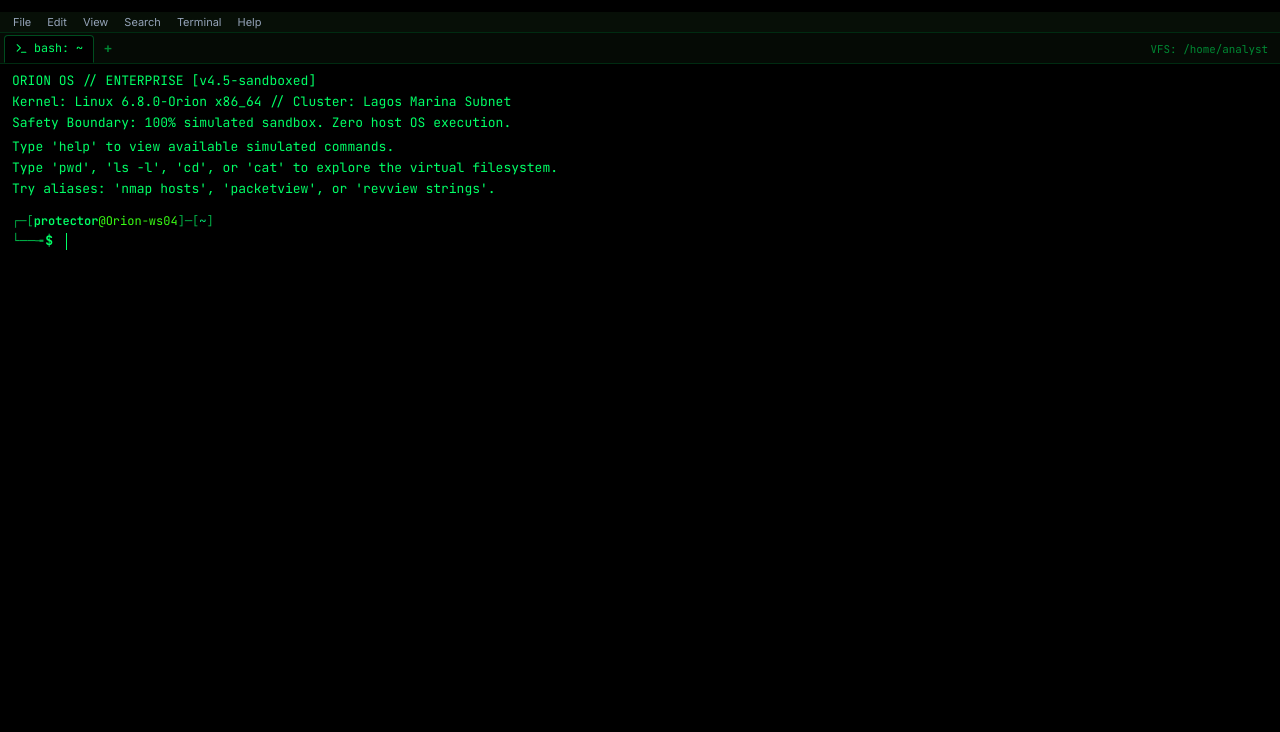
Test case: TerminalApp Component › displays workstation status when running status command
Type "status" into the field with test id "terminal-command-input" at (667, 241), box x1=66 y1=231 x2=1268 y2=252
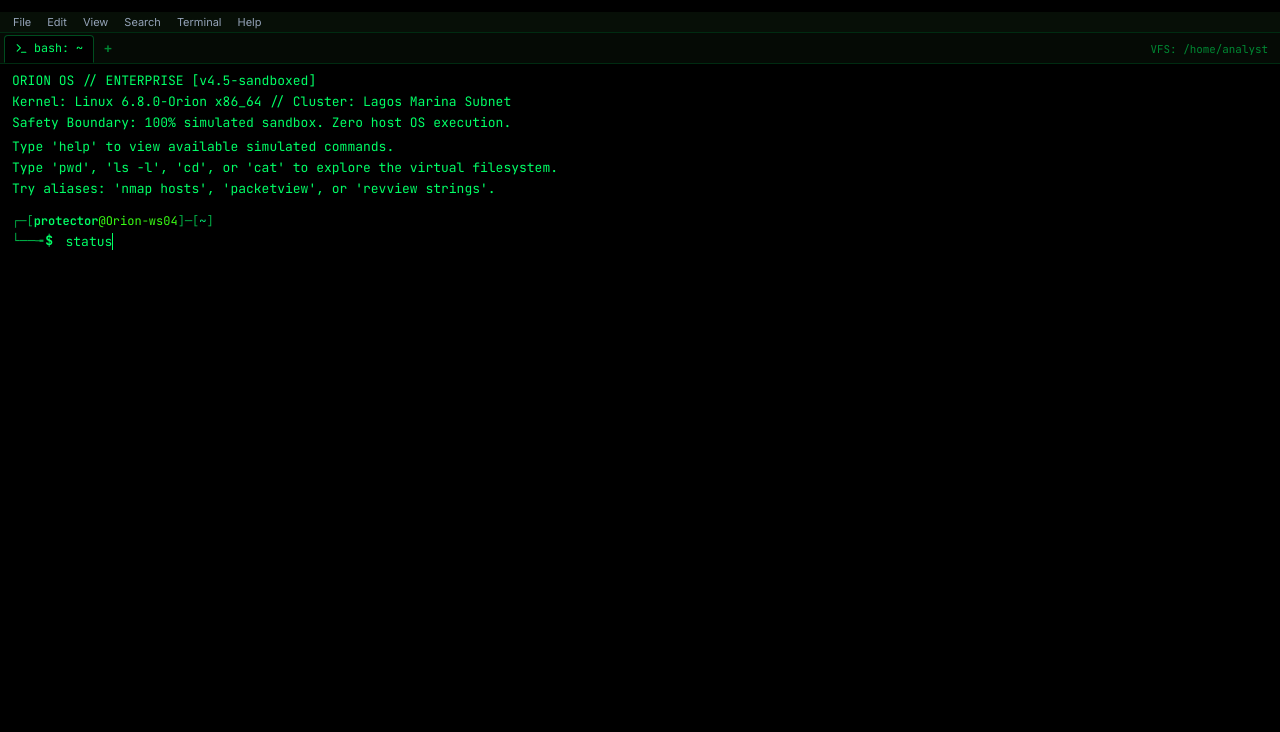
Press Enter in the field with test id "terminal-command-input", box x1=66 y1=231 x2=1268 y2=252
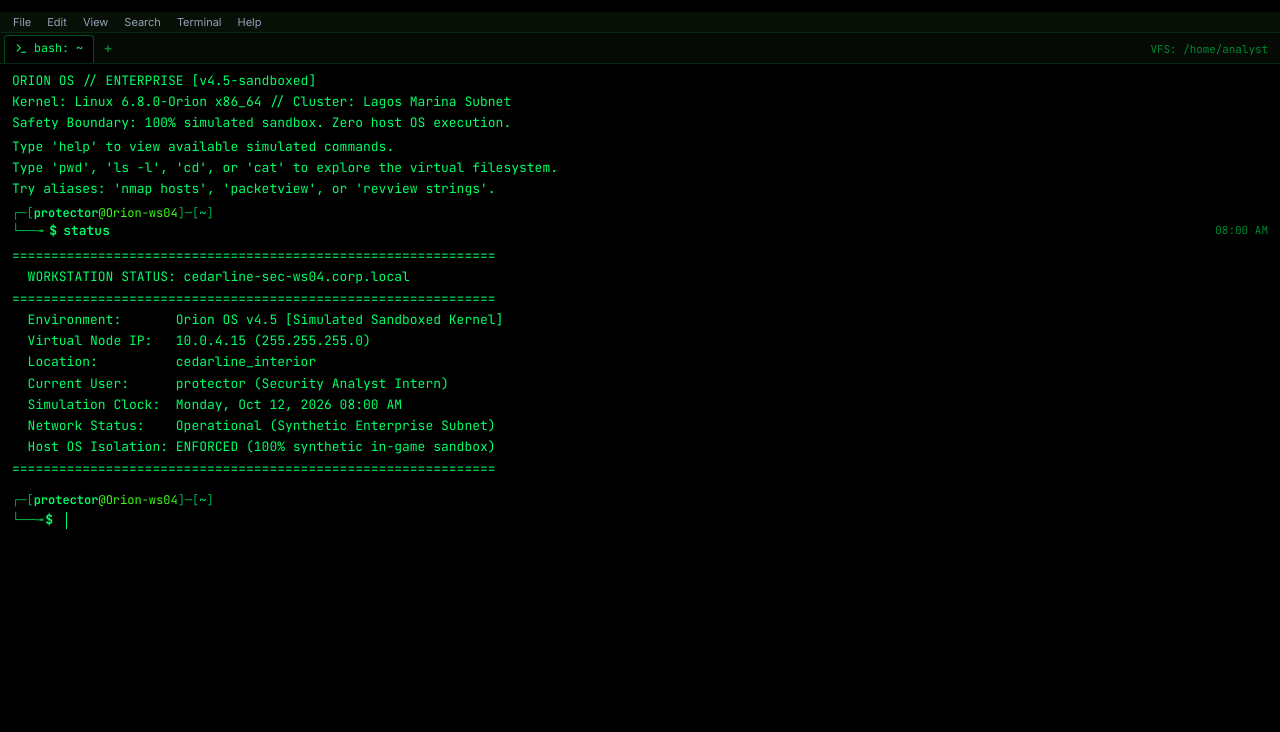
Expected: the text "WORKSTATION STATUS: cedarline-sec-ws04.corp.local" is shown, x1=12 y1=268 x2=410 y2=285
Expected: the text "Environment: Orion OS v4.5 [Simulated Sandboxed Kernel]" is shown, x1=12 y1=311 x2=503 y2=328
Expected: the text "Host OS Isolation: ENFORCED (100% synthetic in-game sandbox)" is shown, x1=12 y1=438 x2=496 y2=455
